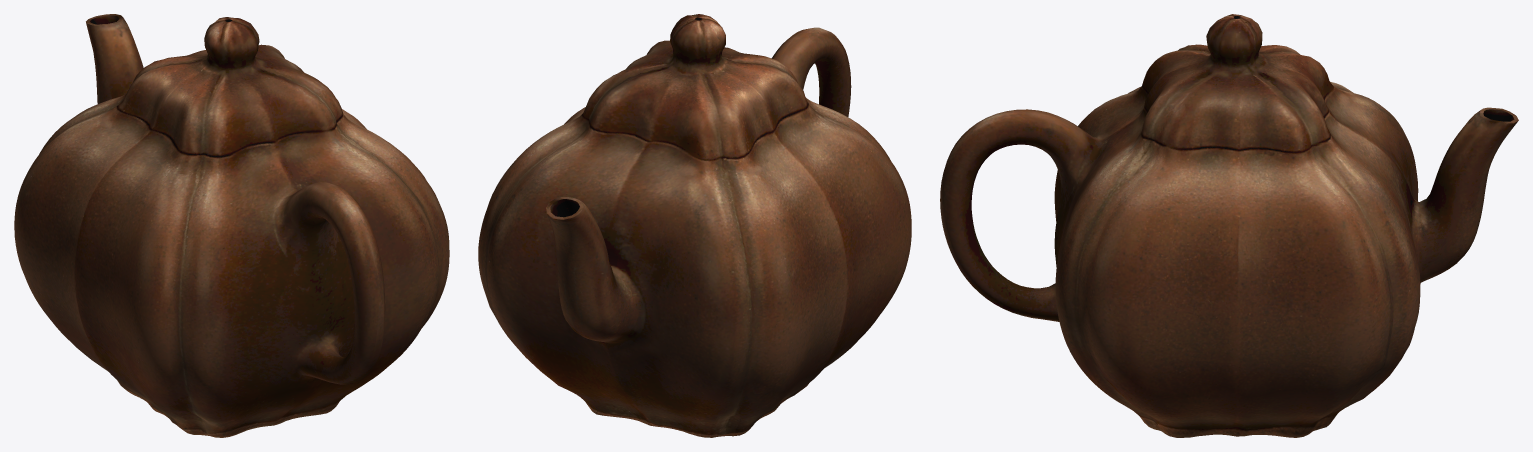
3 views of the same model, side by side, from view 1: azimuth 30°, elevation 25°; view 2: azimuth 150°, elevation 25°; view 3: azimuth 270°, elevation 25° (orthographic).
Parts seen in each view (by area): view 1: SZB_YS_127; view 2: SZB_YS_127; view 3: SZB_YS_127.
Part boxes in pixels (<box>): SZB_YS_127: <box>14,14,449,437</box>; SZB_YS_127: <box>478,14,911,437</box>; SZB_YS_127: <box>940,14,1518,437</box>.
Size of the model in its own units: 71.75 by 81.99 by 113.
